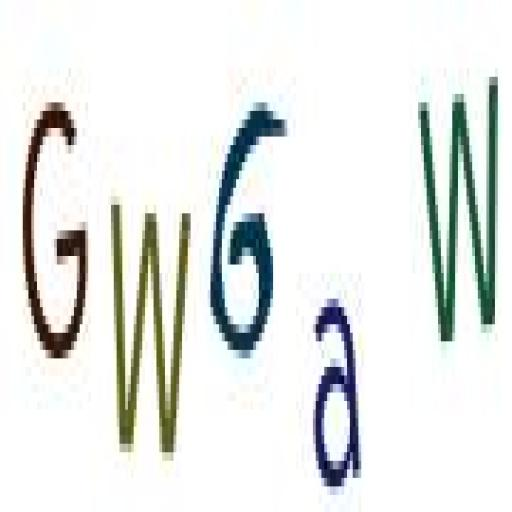6: (207, 88, 286, 384)
G: (20, 87, 94, 381)
W: (416, 87, 509, 359), (108, 177, 193, 458)
a: (310, 286, 364, 498)
